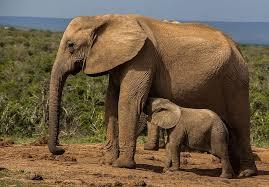elephant: (48, 14, 256, 176)
